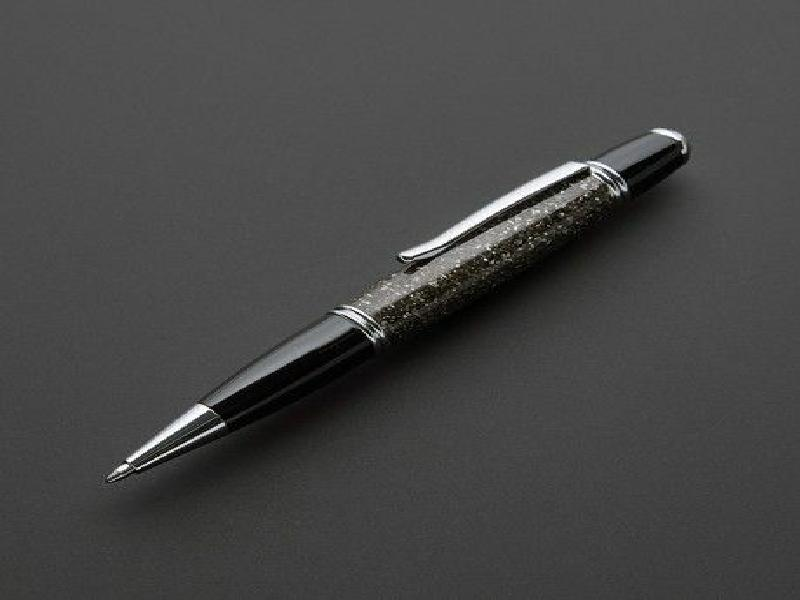pen: (97, 120, 702, 488)
